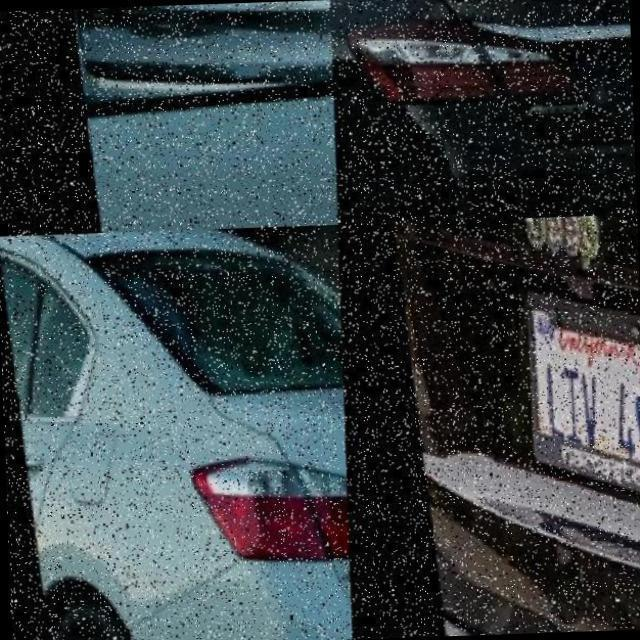License Plate: (508, 288, 640, 500), (206, 0, 329, 52)
